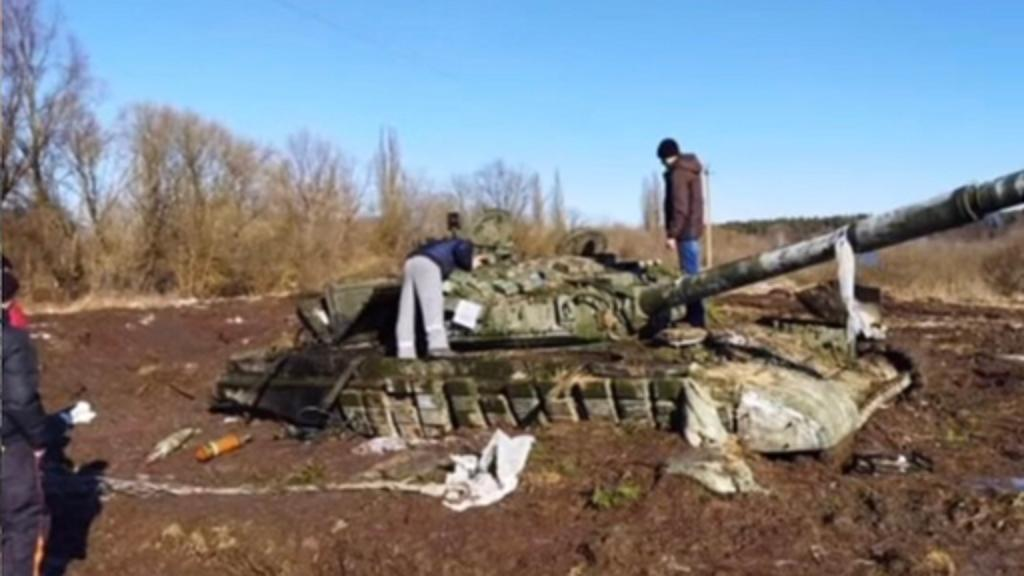TANK: (224, 174, 1014, 456)
